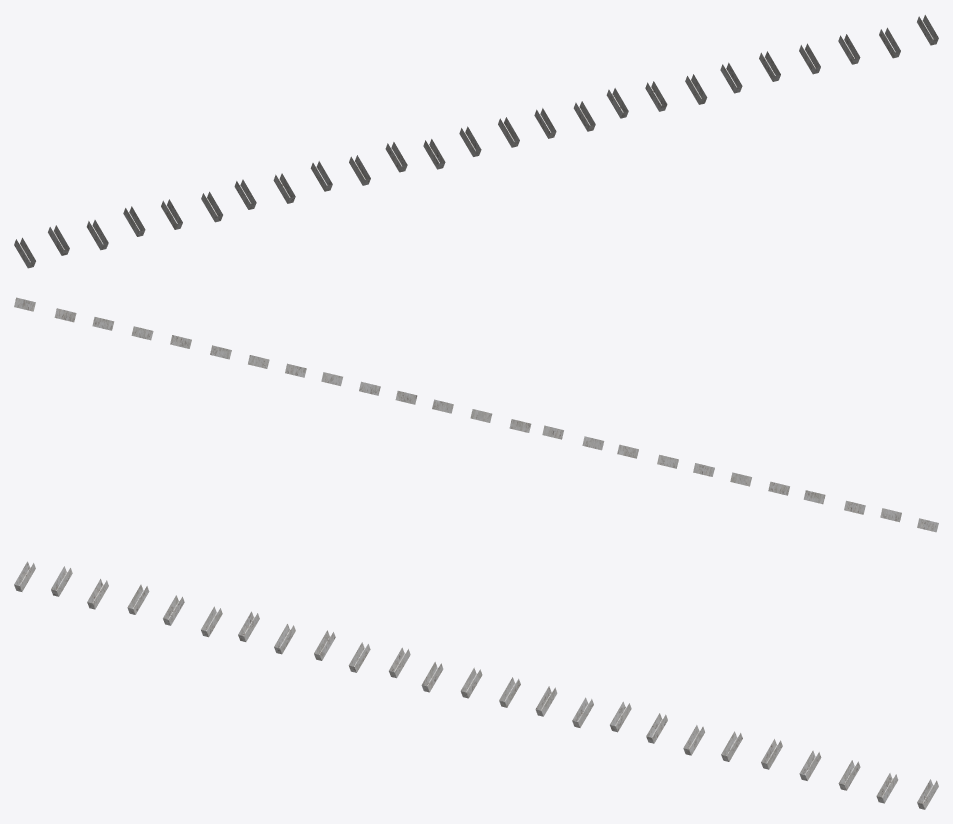
Rendered from barnOuterTimbers_02_LOD1.FBX.
The picture shows the model from 3 angles, top to bottom: view 1: azimuth 30°, elevation 25°; view 2: azimuth 150°, elevation 25°; view 3: azimuth 330°, elevation 25°; orthographic projection.
Visible parts, largest first — view 1: barnOuterTimbers_02_LOD1; view 2: barnOuterTimbers_02_LOD1; view 3: barnOuterTimbers_02_LOD1.
Boxes of the visible parts, <box> form: barnOuterTimbers_02_LOD1: <box>14,15,938,268</box>; barnOuterTimbers_02_LOD1: <box>14,297,938,532</box>; barnOuterTimbers_02_LOD1: <box>14,561,938,809</box>.
Bounding box in the file's own units: 2102 × 55.97 × 75.39.
